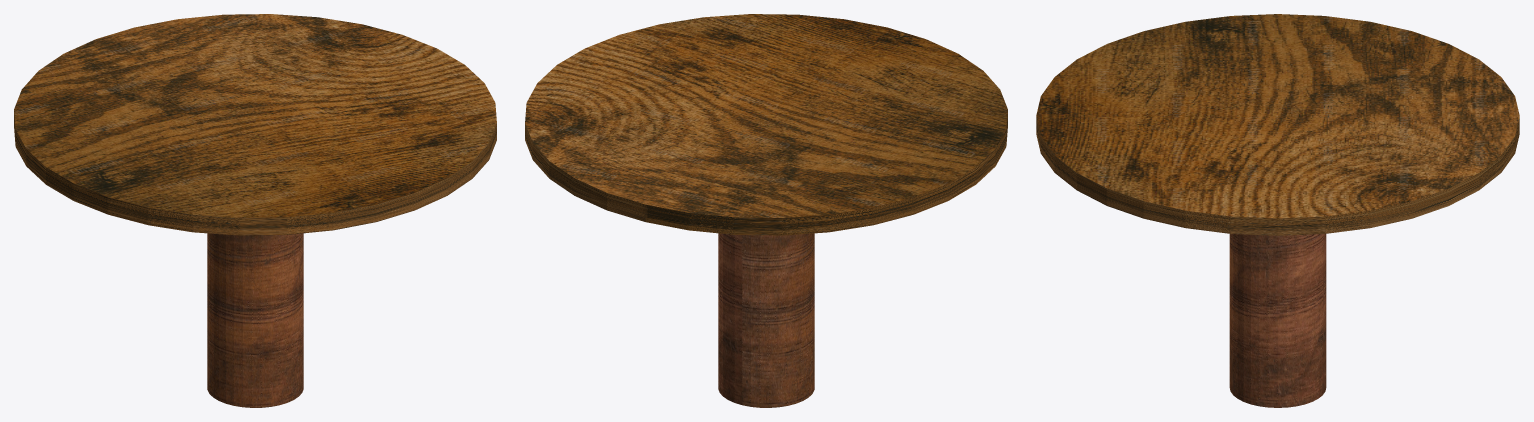
The model's file is table.obj.
3 views of the same model, side by side, from view 1: azimuth 30°, elevation 25°; view 2: azimuth 150°, elevation 25°; view 3: azimuth 270°, elevation 25° (orthographic).
Parts seen in each view (by area): view 1: Cylinder, Cylinder.001; view 2: Cylinder, Cylinder.001; view 3: Cylinder, Cylinder.001.
Part boxes in pixels (box(x1,y1,x2,y2)): Cylinder: box(14, 14, 496, 235); Cylinder.001: box(207, 233, 303, 407); Cylinder: box(525, 14, 1007, 235); Cylinder.001: box(718, 233, 814, 407); Cylinder: box(1036, 14, 1519, 235); Cylinder.001: box(1229, 234, 1326, 407).
Bounding box in the file's own units: 2 × 1.24 × 2.
2 materials, 2 textured.
